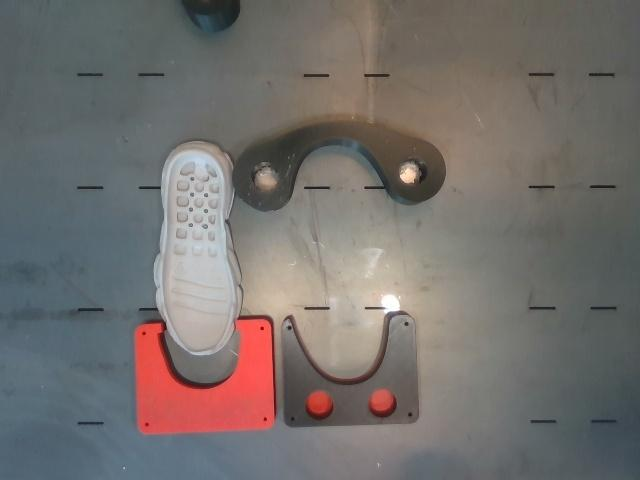shoes: (162, 151, 233, 353)
